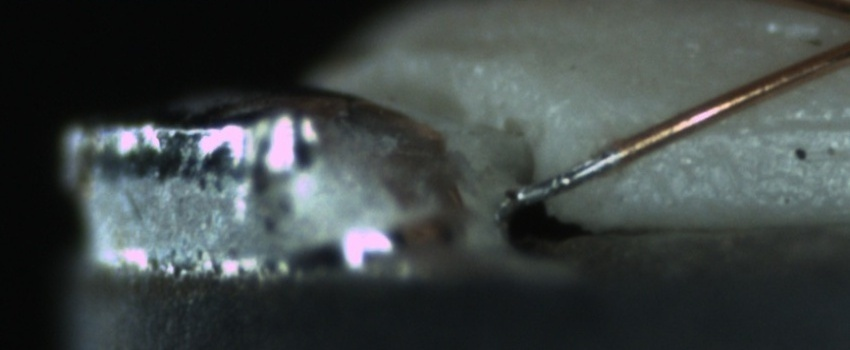DL: (693, 95, 850, 159)
TS: (511, 147, 620, 206)
